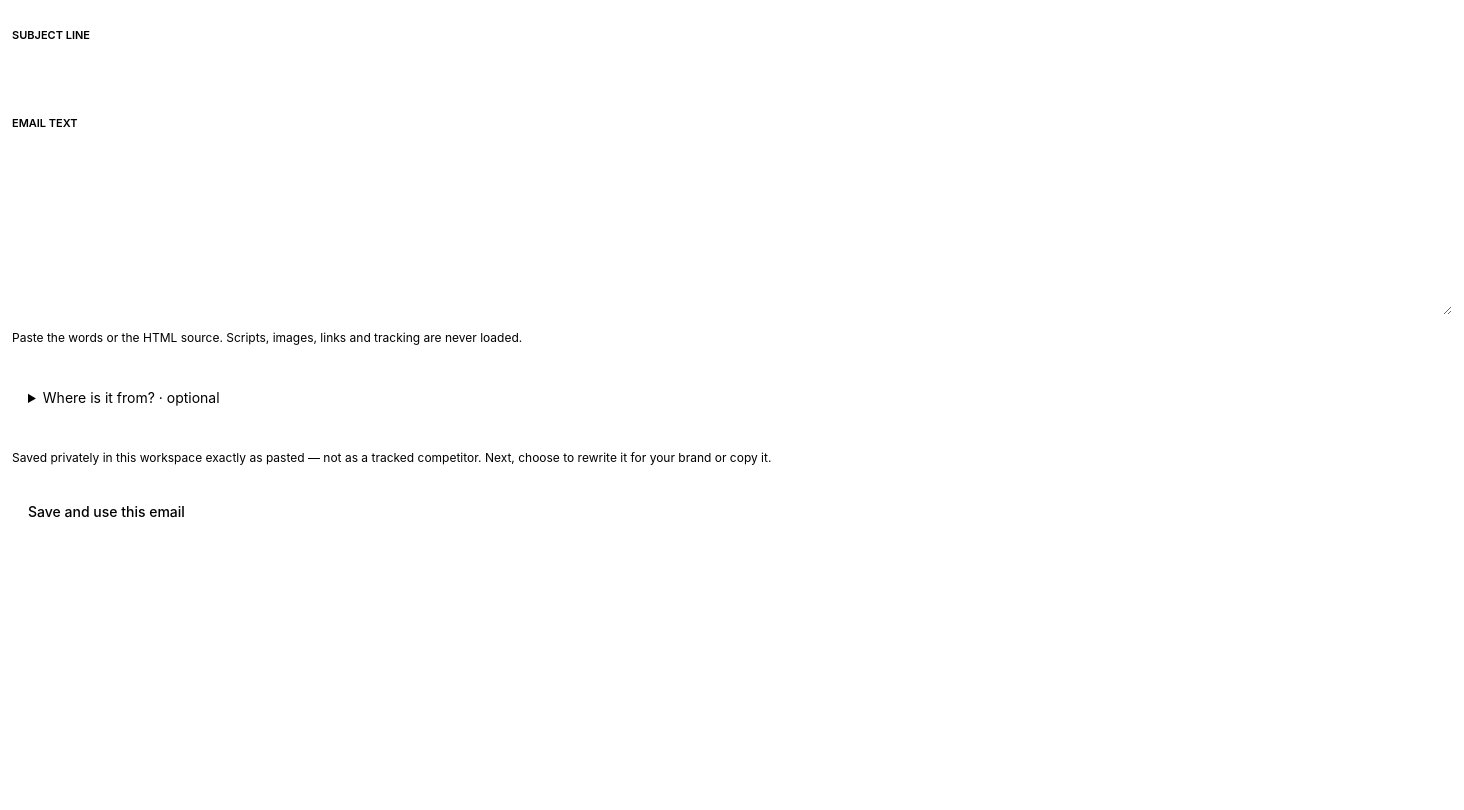
Pasted reference form › previews hostile markup as text without creating elements or loading resources
This screenshot has width=1464, height=810.
Type "<p>Hello</p><img src=\"https://tracker.example/o.gif\" onerror=\"alert(1)\"><script>alert(2)</script><iframe src=\"https://evil.example\"></iframe><p>&lt;b&gt;literal&lt;/b&gt;</p>" into the text box labelled "Email text" at (732, 227), box [12, 139, 1452, 315]
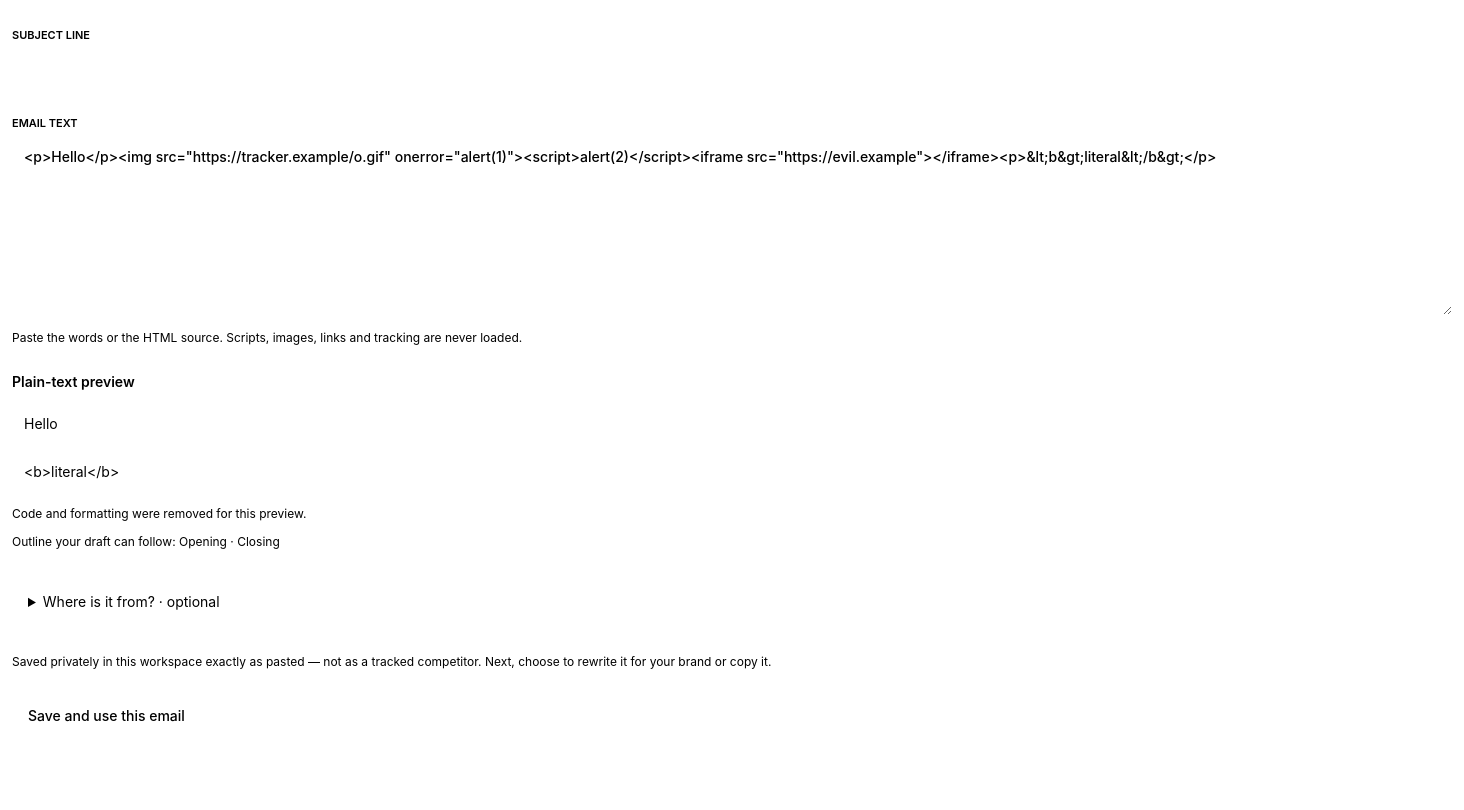
Result: the element "Plain-text preview" shows "Hello" at [24, 415, 119, 480]
Result: the element "Plain-text preview" shows "<b>literal</b>" at [24, 415, 119, 480]
Result: the text "Code and formatting were removed for this preview." is shown at [12, 506, 306, 521]
